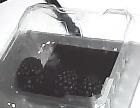berry: (49, 68, 81, 98), (16, 57, 43, 92), (76, 76, 103, 97)
